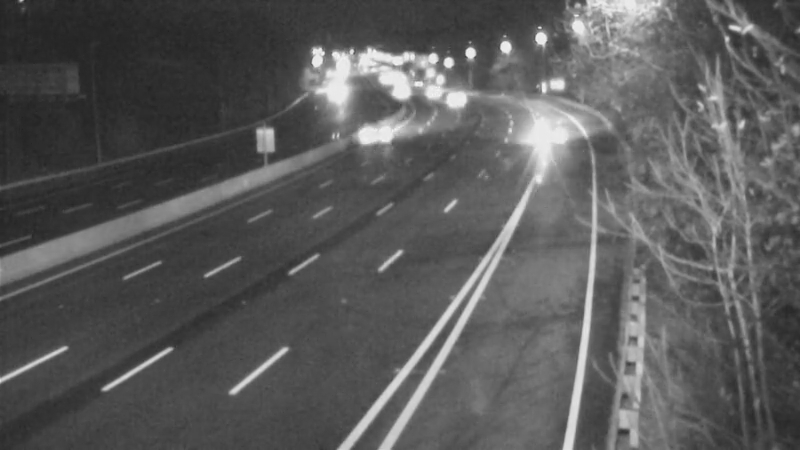vehicle: (403, 66, 453, 116), (372, 66, 422, 116), (427, 74, 477, 124), (529, 105, 579, 155), (350, 108, 400, 158)
